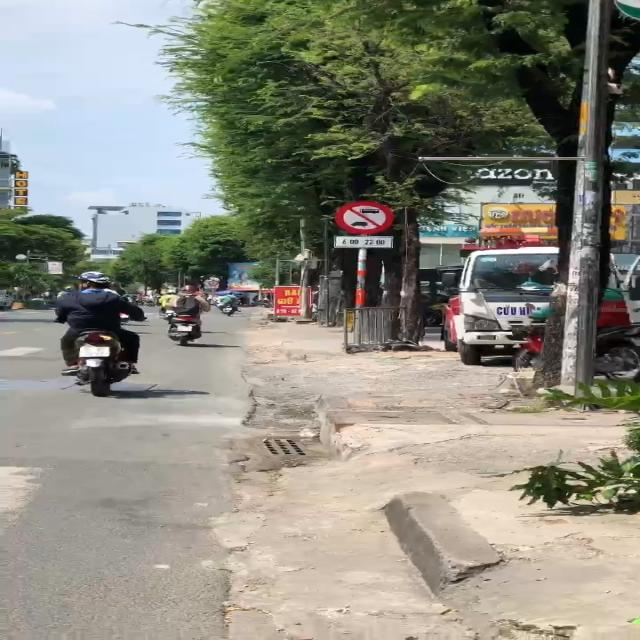Bien bao cam xe oto khach va xe oto tai: (331, 199, 392, 237)
